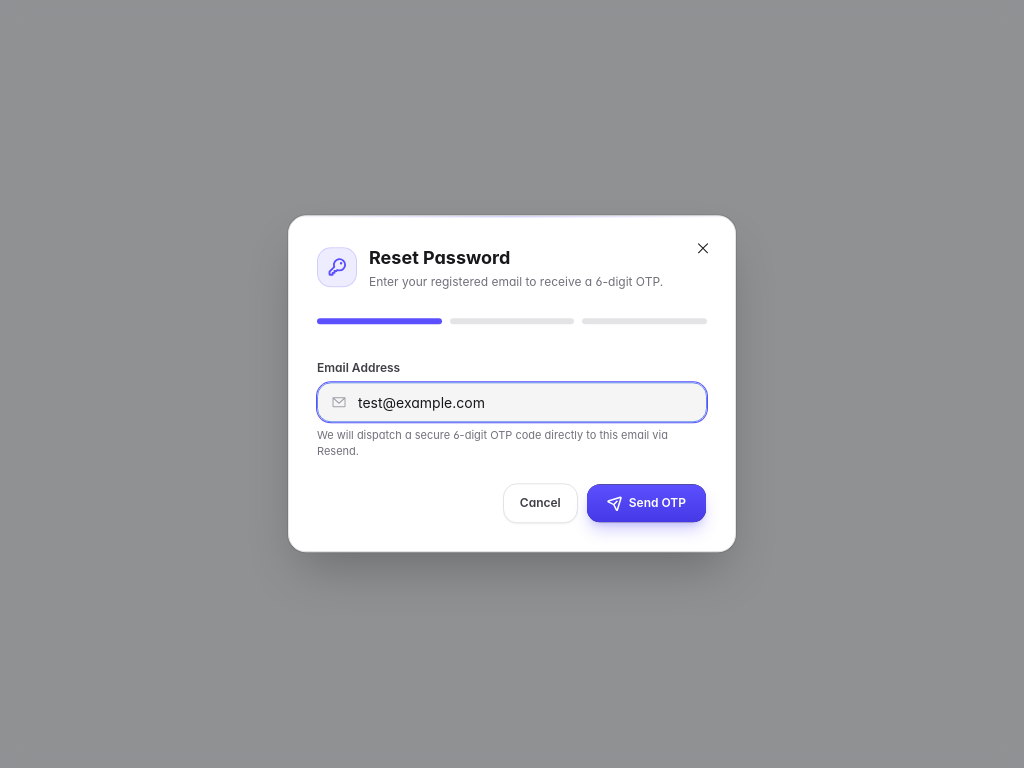
it: ForgotPasswordModal Component Flow › submits email and transitions to Step 2 (OTP)
Click the button "Send OTP" at (646, 504), box [586,484,707,524]
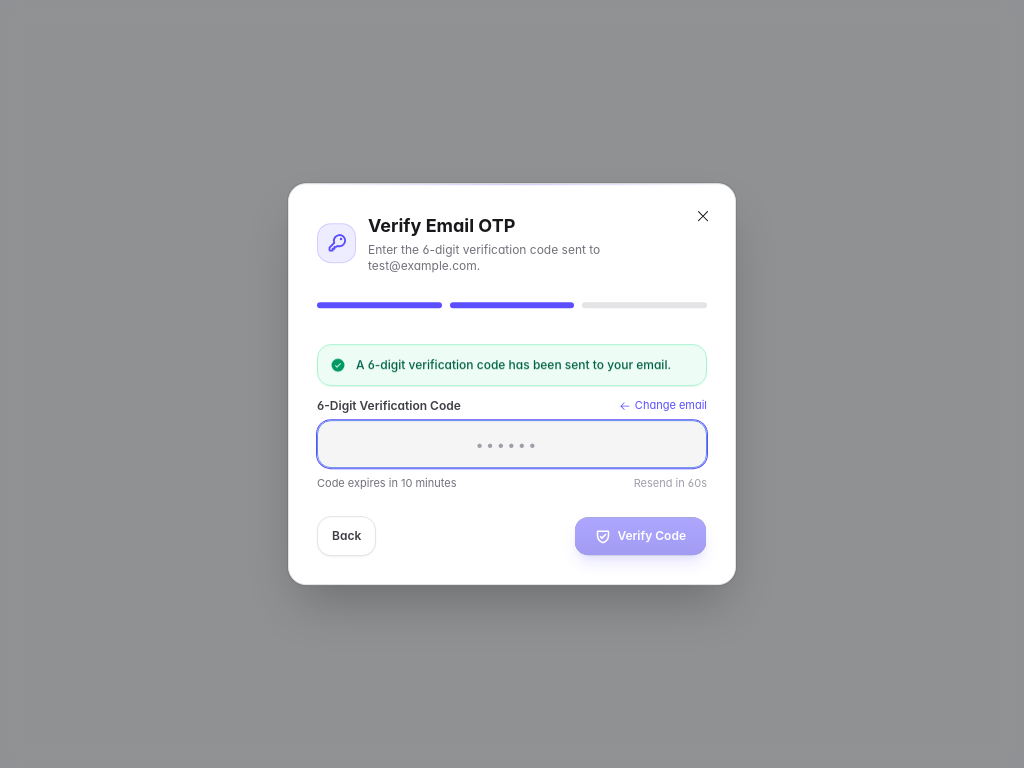
Check: the heading "Verify Email OTP" is shown, box [368,215,515,236]
Check: the field with placeholder "••••••" is shown, box [317,420,707,468]
